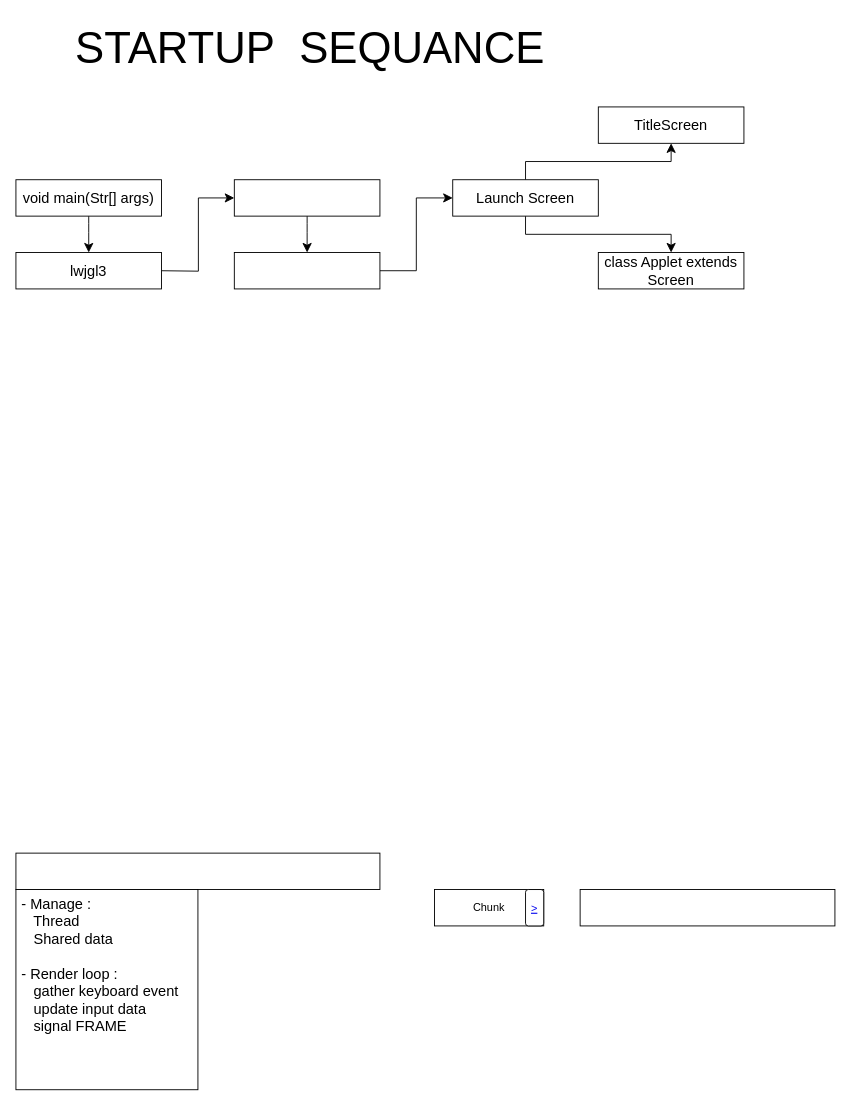
This 851x1106 diagram has some shape labels left out. Each missing label, with the box of its shape:
class Main ext Game: (233, 179, 380, 216)
final byte[] val =new byte[CHUNK_LENGTH] ;: (579, 889, 835, 926)
MAIN THREAD: (15, 852, 380, 890)
SETUP: (233, 252, 380, 289)
